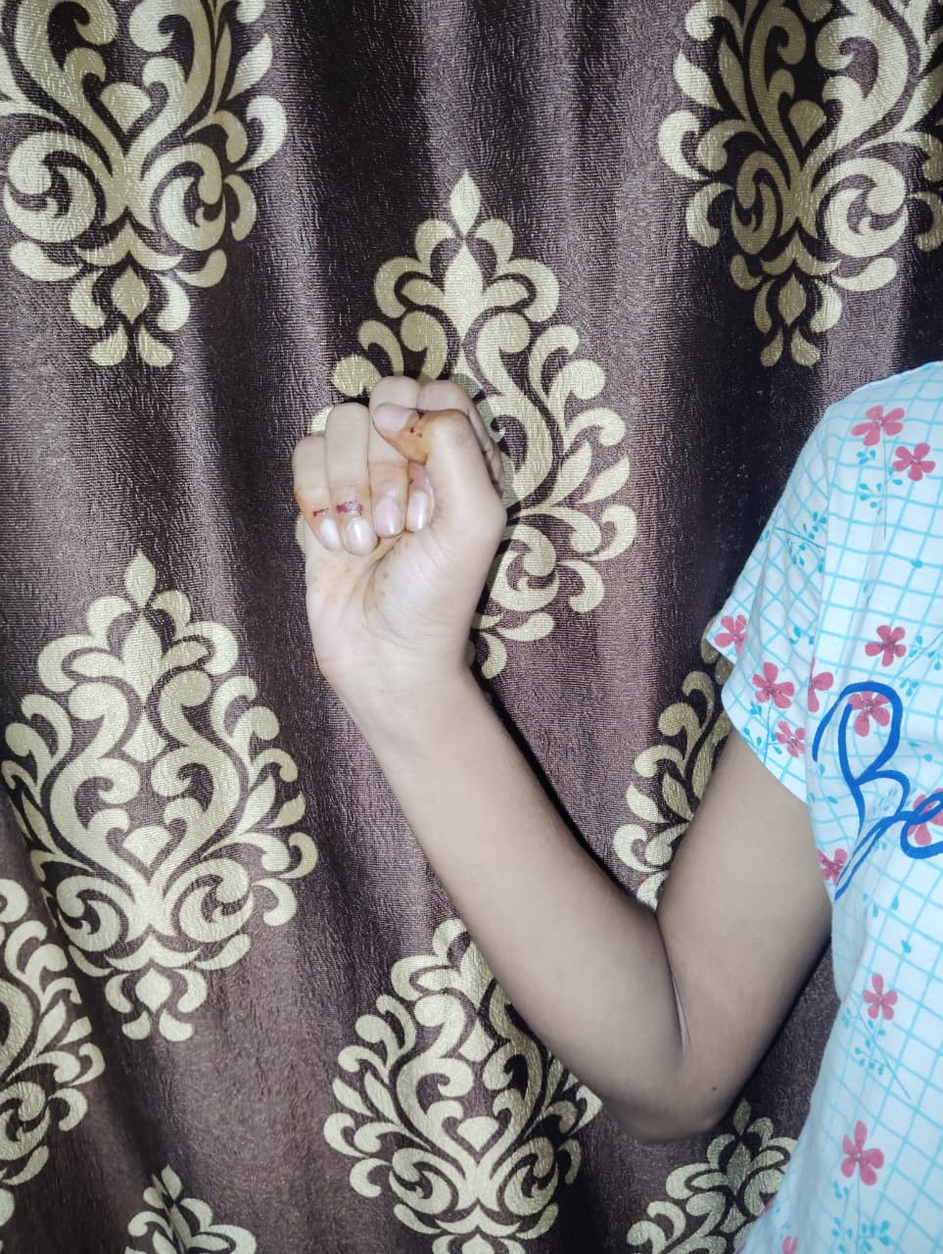S: (293, 377, 505, 685)
